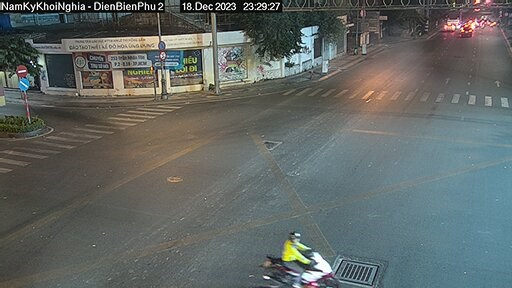motorbike: (254, 221, 344, 287)
